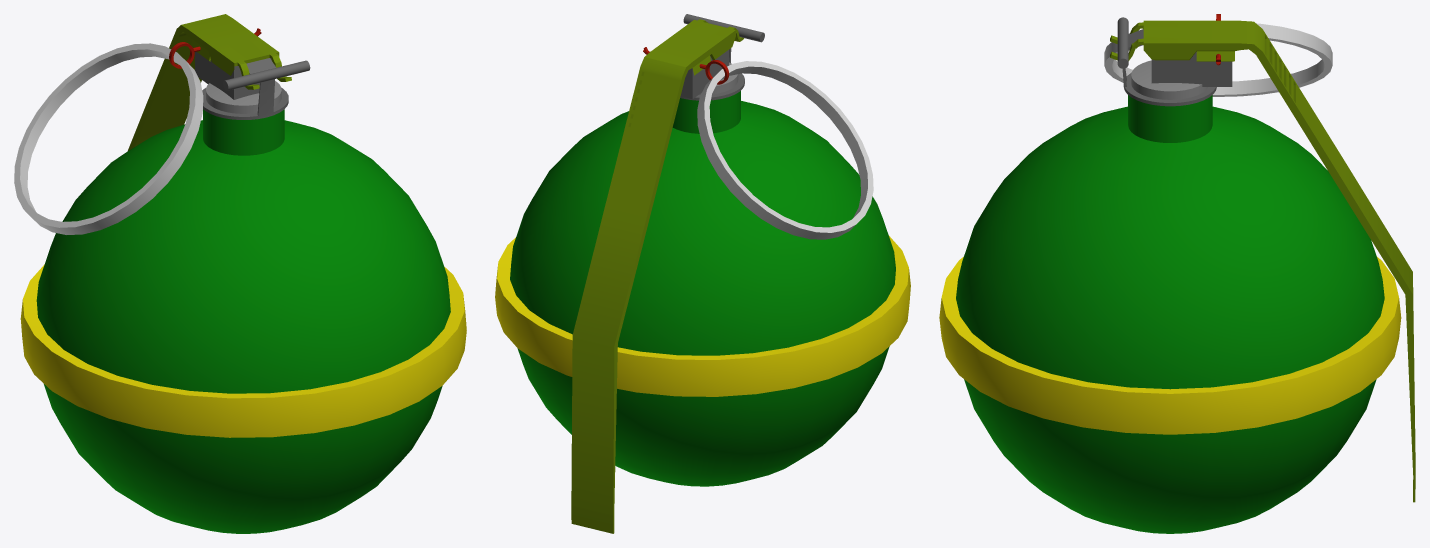
File: fraggrenade.fbx
3 renders of one model, left to right at view 1: azimuth 30°, elevation 25°; view 2: azimuth 150°, elevation 25°; view 3: azimuth 270°, elevation 25°, orthographic. The views are drawn at different scales.
Visible parts, largest first — view 1: Sphere; view 2: Sphere; view 3: Sphere.
Part boxes in pixels (<box>): Sphere: <box>14,14,466,533</box>; Sphere: <box>495,14,910,533</box>; Sphere: <box>939,14,1415,533</box>.
Bounding box in the file's own units: 230 × 265 × 237.
